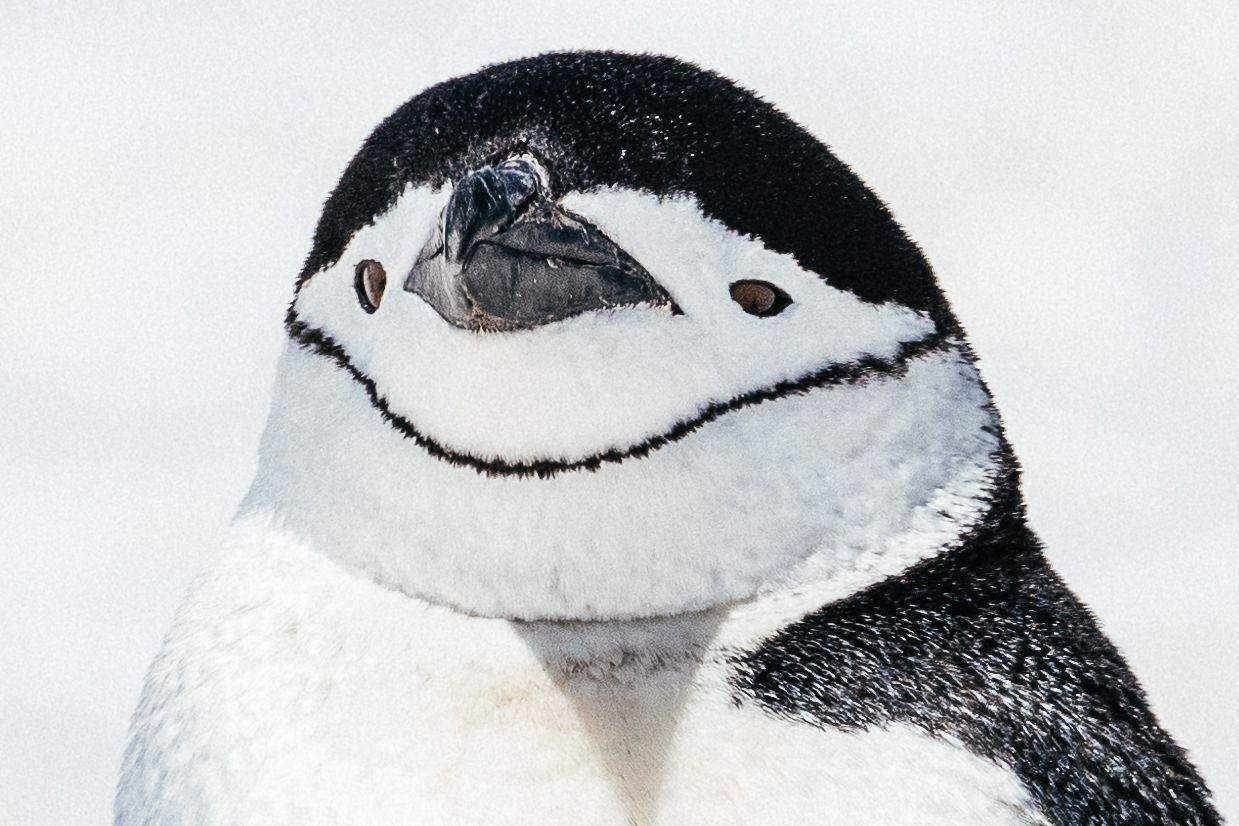Penguin: (116, 53, 1219, 823)
